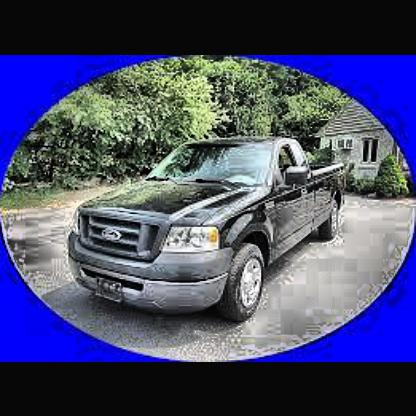Ford F-150 Regular Cab 2007: (66, 137, 348, 325)
